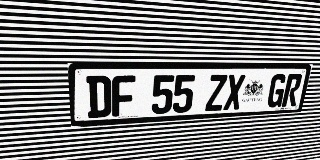5: (151, 75, 174, 114), (172, 75, 195, 113)
D: (86, 76, 111, 118)
F: (112, 75, 135, 117)
G: (266, 74, 288, 108)
R: (281, 74, 303, 107)
X: (223, 74, 246, 110)
Z: (205, 74, 227, 111)
